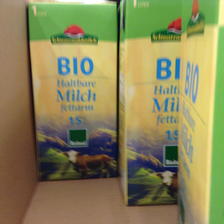milk: (27, 1, 122, 181), (120, 1, 182, 208)
